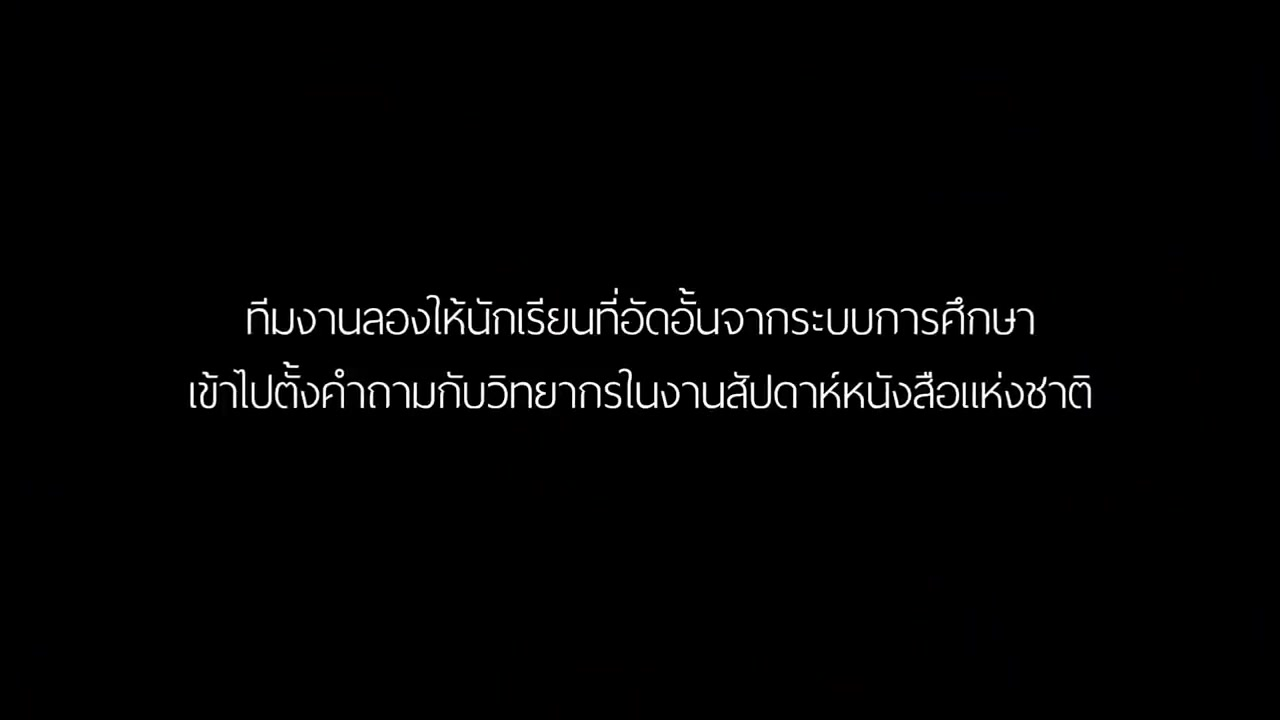text-label: (238, 281, 1043, 343), (186, 360, 1097, 410)
